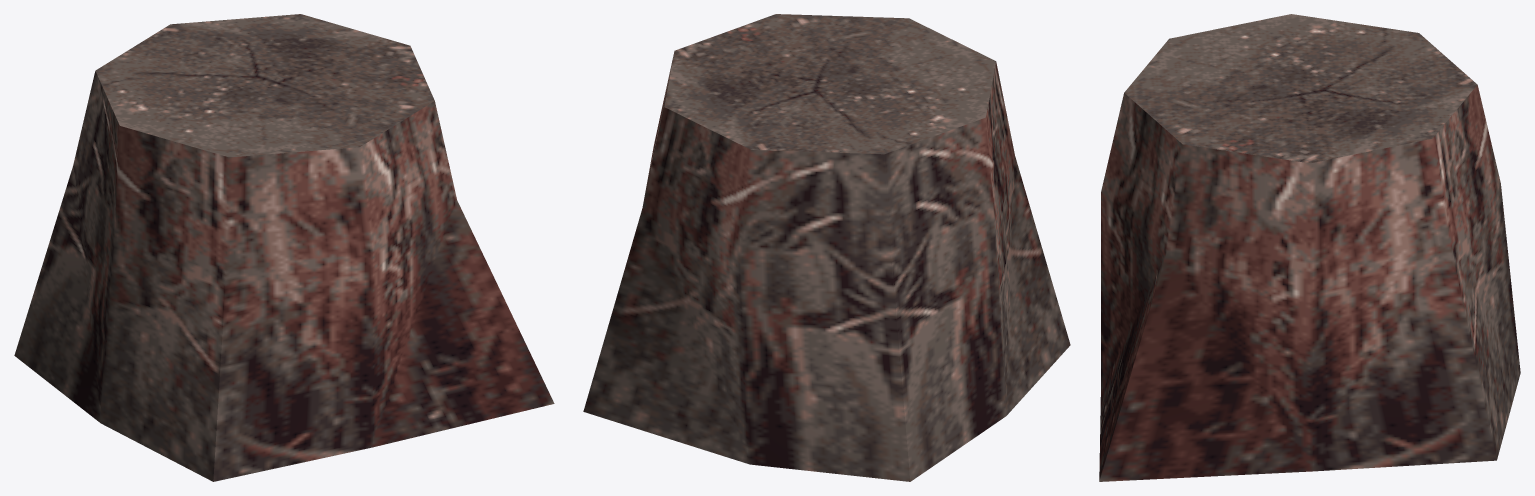
File: fp_stump_2.glb
3 renders of one model, left to right at view 1: azimuth 30°, elevation 25°; view 2: azimuth 150°, elevation 25°; view 3: azimuth 270°, elevation 25°, orthographic. The views are drawn at different scales.
Parts seen in each view (by area): view 1: _MeshInstance3D_47; view 2: _MeshInstance3D_47; view 3: _MeshInstance3D_47.
Boxes of the visible parts, x1=… form: _MeshInstance3D_47: x1=14, y1=14, x2=554, y2=481; _MeshInstance3D_47: x1=583, y1=14, x2=1070, y2=481; _MeshInstance3D_47: x1=1099, y1=14, x2=1520, y2=481.
Bounding box in the file's own units: 0.4229 × 0.3278 × 0.4196.
1 material, 1 textured.
